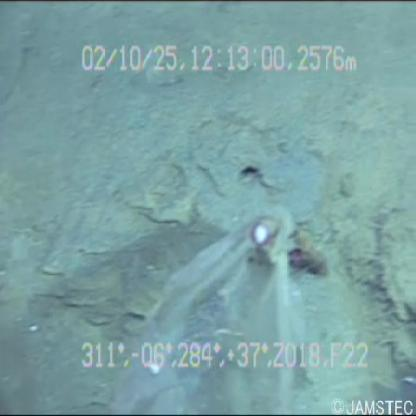Rác: (101, 194, 340, 414)
